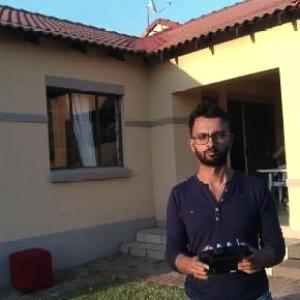follow: (162, 97, 291, 299)
